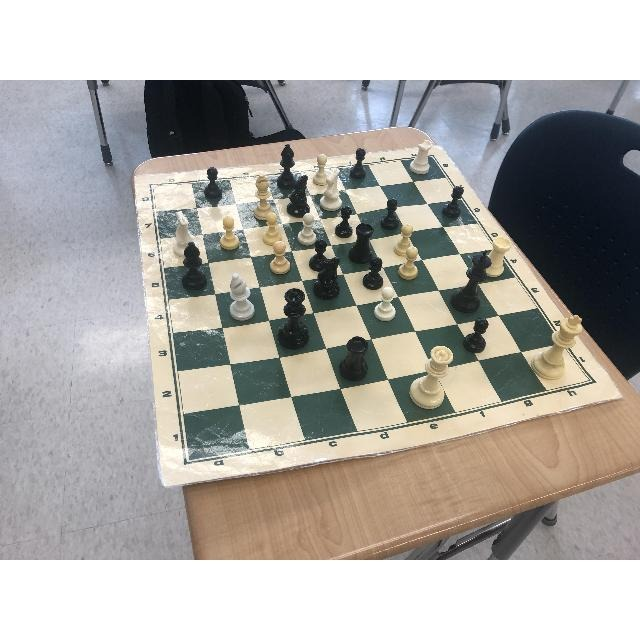black-bishop: (182, 241, 207, 290), (278, 144, 296, 188)
black-king: (451, 251, 491, 313)
black-knight: (314, 257, 339, 299), (286, 175, 309, 217)
black-pawn: (464, 318, 488, 353), (363, 256, 383, 289), (443, 186, 463, 218), (309, 238, 328, 271), (381, 198, 399, 229), (204, 167, 221, 199), (334, 206, 351, 238), (350, 148, 366, 178)
black-queen: (278, 288, 309, 350)
black-rook: (339, 336, 368, 381), (349, 222, 372, 263)
white-bishop: (230, 273, 254, 321), (254, 173, 274, 220)
white-king: (531, 316, 583, 380)
white-knight: (173, 211, 199, 257), (320, 169, 342, 211)
white-pawn: (375, 286, 395, 321), (270, 241, 290, 275), (220, 216, 239, 250), (393, 224, 412, 256), (399, 246, 417, 279), (263, 212, 281, 245), (298, 214, 316, 246), (313, 154, 330, 185)
white-queen: (409, 346, 453, 408)
white-rook: (483, 237, 510, 277), (409, 139, 432, 174)
